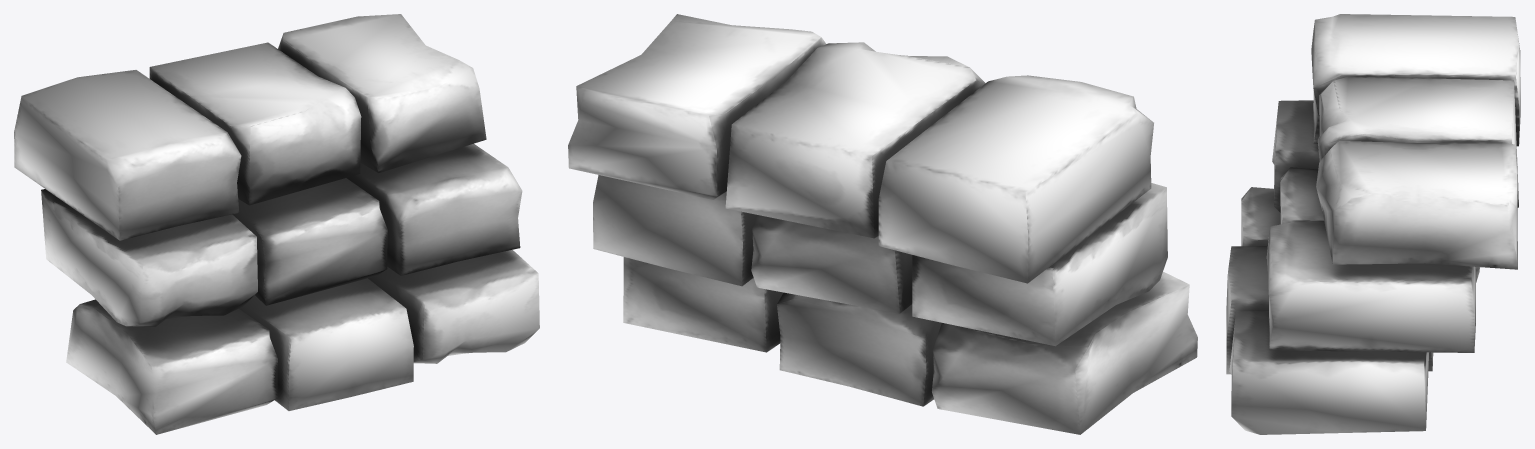
File: brick_support.fbx
3 views of the same model, side by side, from view 1: azimuth 30°, elevation 25°; view 2: azimuth 150°, elevation 25°; view 3: azimuth 270°, elevation 25° (orthographic). The views are drawn at different scales.
Visible parts, largest first — view 1: brick_support; view 2: brick_support; view 3: brick_support.
Boxes of the visible parts, x1,y1,x2,y2 form: brick_support: (14,14,539,434); brick_support: (568,14,1197,434); brick_support: (1226,14,1520,434).
Bounding box in the file's own units: 79.13 × 48.11 × 52.53.
